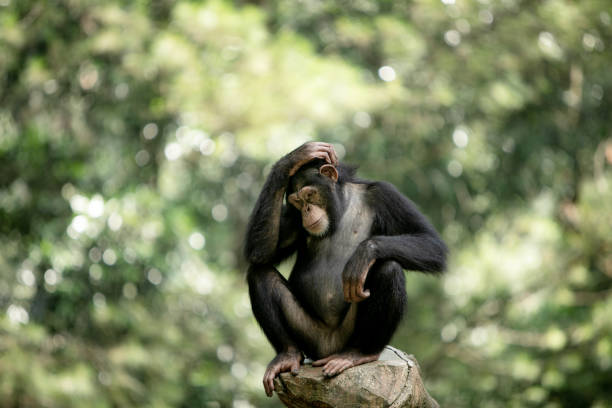chimpanzee: (263, 138, 351, 255)
